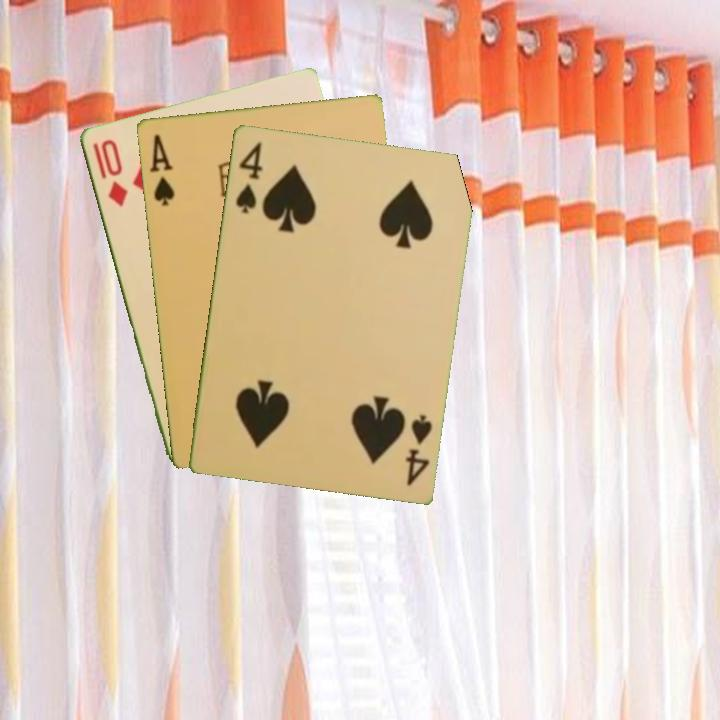10d: (88, 135, 131, 209)
4s: (231, 137, 265, 216), (401, 410, 435, 488)
As: (145, 130, 177, 209)
